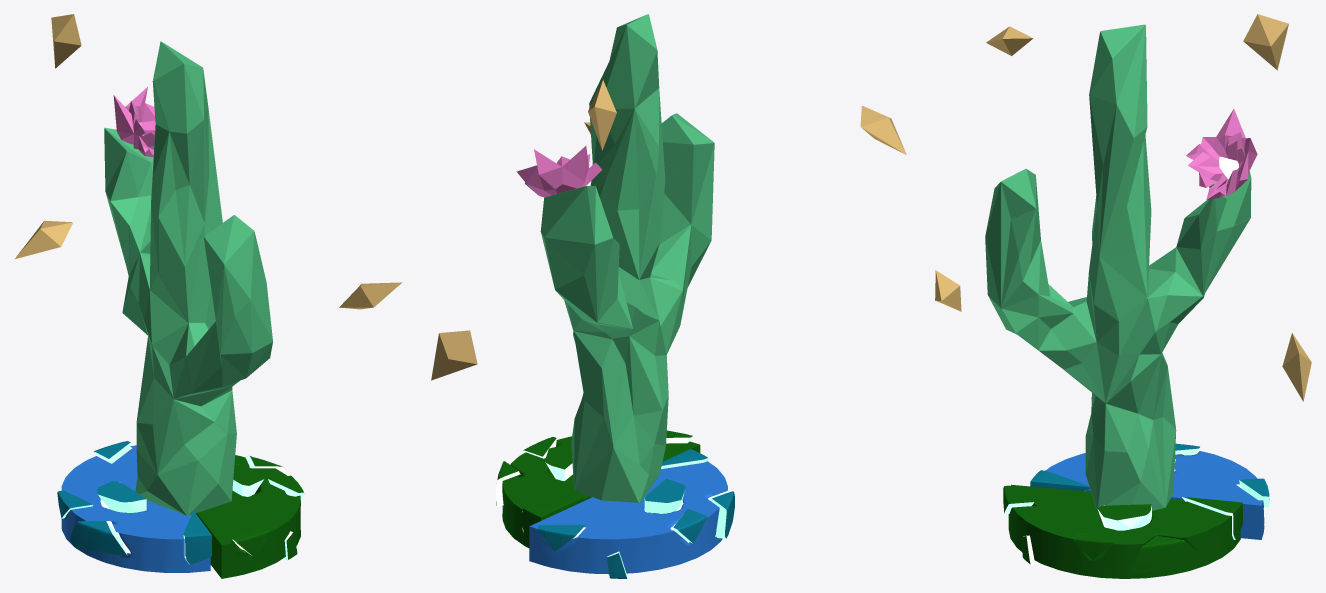
File: green.gltf
The picture shows the model from 3 angles, left to right: view 1: azimuth 30°, elevation 25°; view 2: azimuth 150°, elevation 25°; view 3: azimuth 270°, elevation 25°; orthographic projection. The views are drawn at different scales.
Parts seen in each view (by area): view 1: Cube.001; view 2: Cube.001; view 3: Cube.001.
Boxes of the visible parts, x1=… form: Cube.001: x1=15, y1=14, x2=402, y2=578; Cube.001: x1=431, y1=14, x2=906, y2=578; Cube.001: x1=935, y1=14, x2=1311, y2=578.
Bounding box in the file's own units: 4.39 × 5.88 × 4.01.
